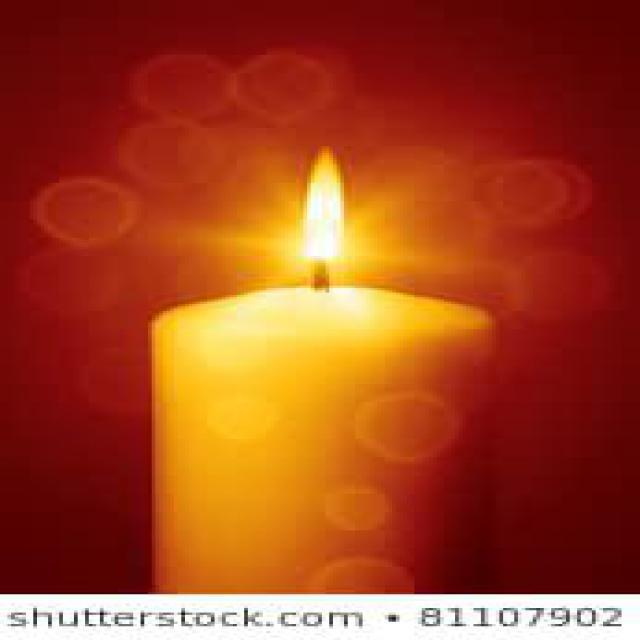Fire: (300, 146, 344, 263)
